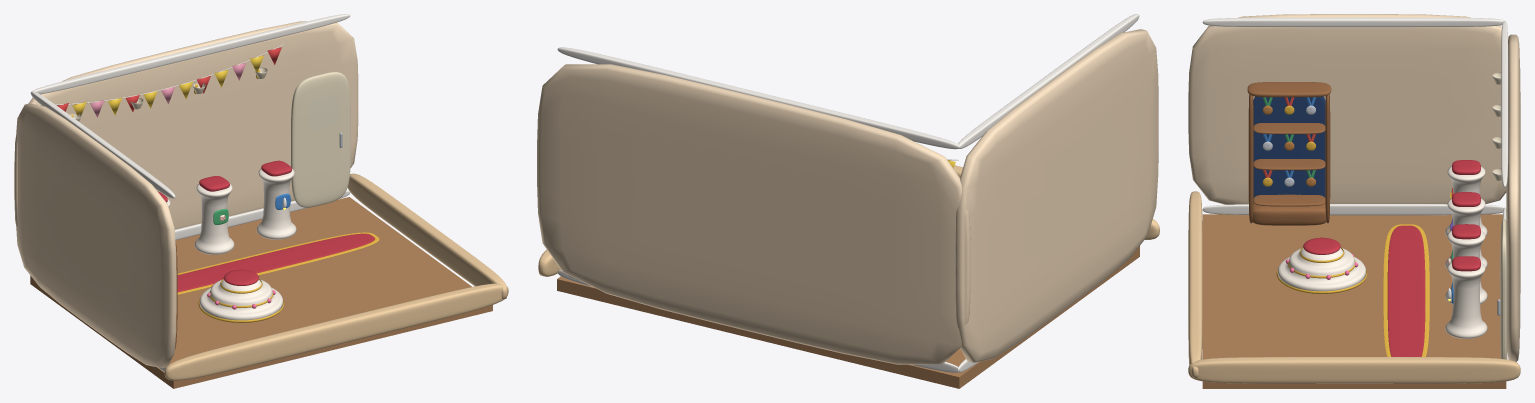
File: casa_trofeos.glb
3 views of the same model, side by side, from view 1: azimuth 30°, elevation 25°; view 2: azimuth 150°, elevation 25°; view 3: azimuth 270°, elevation 25° (orthographic). The views are drawn at different scales.
Parts seen in each view (by area): view 1: pared fondo.001, pared izquierda.001, piso.001, muro bajo frente.001, puerta.001, muro bajo derecha.001, tapete.001, cornisa fondo.001, podio, pedestal.002, pedestal.003, cornisa izquierda.001 (+3 smaller); view 2: pared fondo.001, pared izquierda.001, piso.001, cornisa fondo.001, cornisa izquierda.001; view 3: pared izquierda.001, piso.001, muro bajo derecha.001, fondo vitrina, tapete.001, pared fondo.001, cornisa izquierda.001, podio, muro bajo frente.001, pedestal.003, zócalo izquierdo.001, base vitrina (+18 smaller).
Part boxes in pixels (x1,y1,x2,y2): pared fondo.001: (14,21,358,229); pared izquierda.001: (16,103,176,368); piso.001: (30,197,492,388); muro bajo frente.001: (164,283,508,380); puerta.001: (291,72,350,207); muro bajo derecha.001: (347,173,507,299); tapete.001: (177,233,375,292); cornisa fondo.001: (30,14,350,94); podio: (199,279,282,320); pedestal.002: (194,184,234,254); pedestal.003: (256,169,296,239); cornisa izquierda.001: (31,91,175,198); pared fondo.001: (537,64,970,364); pared izquierda.001: (955,29,1158,362); piso.001: (557,246,1139,388); cornisa fondo.001: (557,47,959,149); cornisa izquierda.001: (957,14,1139,148); pared izquierda.001: (1188,14,1520,204); piso.001: (1202,214,1506,388); muro bajo derecha.001: (1188,357,1520,383); fondo vitrina: (1253,96,1325,197); tapete.001: (1387,225,1425,356); pared fondo.001: (1506,34,1520,362); cornisa izquierda.001: (1202,17,1504,27); podio: (1278,248,1365,291); muro bajo frente.001: (1188,191,1202,378); pedestal.003: (1445,262,1487,338); zócalo izquierdo.001: (1202,204,1506,215); base vitrina: (1249,203,1329,225).
Bounding box in the file's own units: 5.8 × 3.15 × 4.6.
